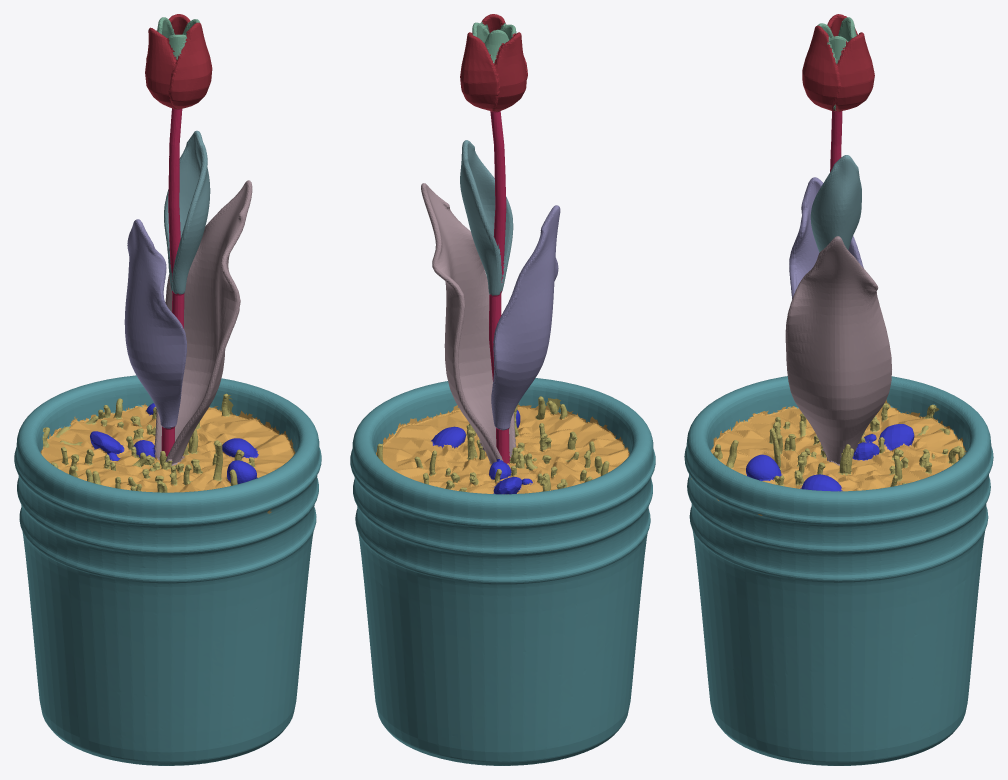
3 renders of one model, left to right at view 1: azimuth 30°, elevation 25°; view 2: azimuth 150°, elevation 25°; view 3: azimuth 270°, elevation 25°, orthographic.
Parts seen in each view (by area): view 1: world; view 2: world; view 3: world.
Boxes of the visible parts, x1=… form: world: x1=14, y1=14, x2=321, y2=765; world: x1=350, y1=14, x2=655, y2=765; world: x1=684, y1=14, x2=993, y2=765.
Size of the model in its own units: 0.7637 by 1.91 by 0.7637.
